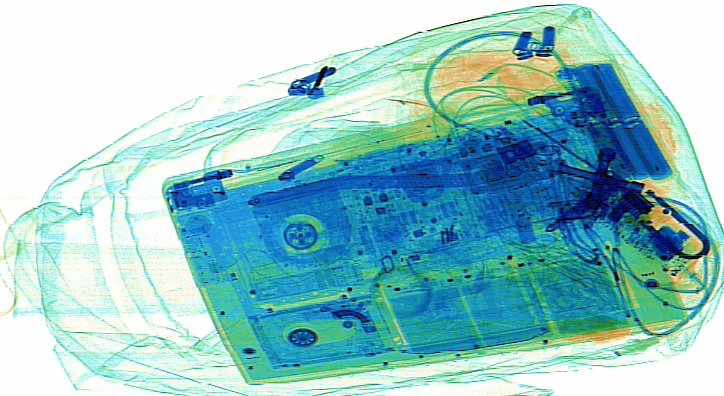powerbank: (553, 55, 672, 181)
